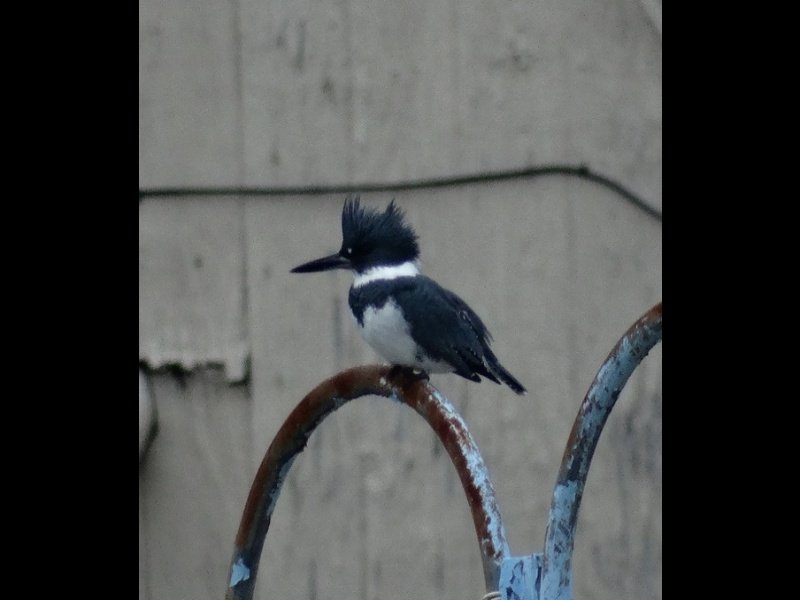kingfisher: (288, 192, 531, 397)
